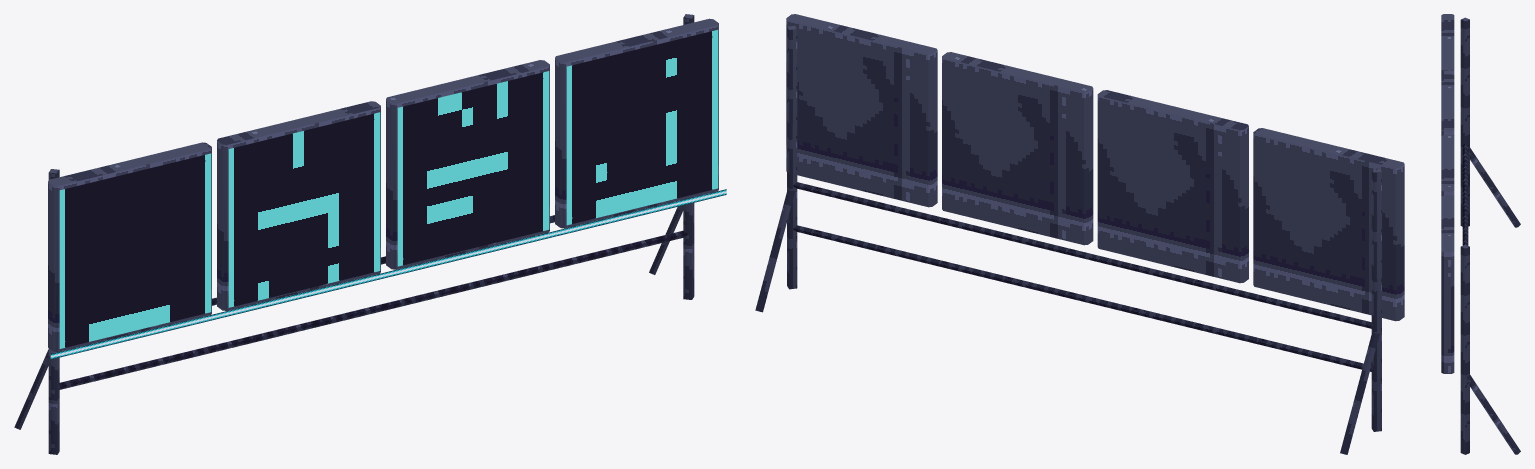
File: cysign.roof.glb
The picture shows the model from 3 angles, left to right: view 1: azimuth 30°, elevation 25°; view 2: azimuth 150°, elevation 25°; view 3: azimuth 270°, elevation 25°; orthographic projection. The views are drawn at different scales.
Parts seen in each view (by area): view 1: kit_card_glyphs, kit_panels, kit_lattice; view 2: kit_panels, kit_lattice; view 3: kit_lattice, kit_panels.
Part boxes in pixels (bbox=[...]): kit_card_glyphs: bbox=[50, 30, 726, 359]; kit_panels: bbox=[48, 18, 718, 352]; kit_lattice: bbox=[14, 14, 694, 454]; kit_panels: bbox=[786, 14, 1404, 321]; kit_lattice: bbox=[755, 25, 1381, 454]; kit_lattice: bbox=[1460, 17, 1520, 454]; kit_panels: bbox=[1441, 14, 1454, 373].
Size of the model in its own units: 9.8 by 3.93 by 1.39.
Materials: 5 (5 with a texture image).
